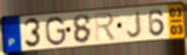3: (22, 17, 44, 50)
6: (147, 9, 166, 37)
8: (71, 13, 92, 44)
G: (44, 16, 68, 47)
J: (126, 10, 142, 39)
R: (93, 11, 118, 43)
